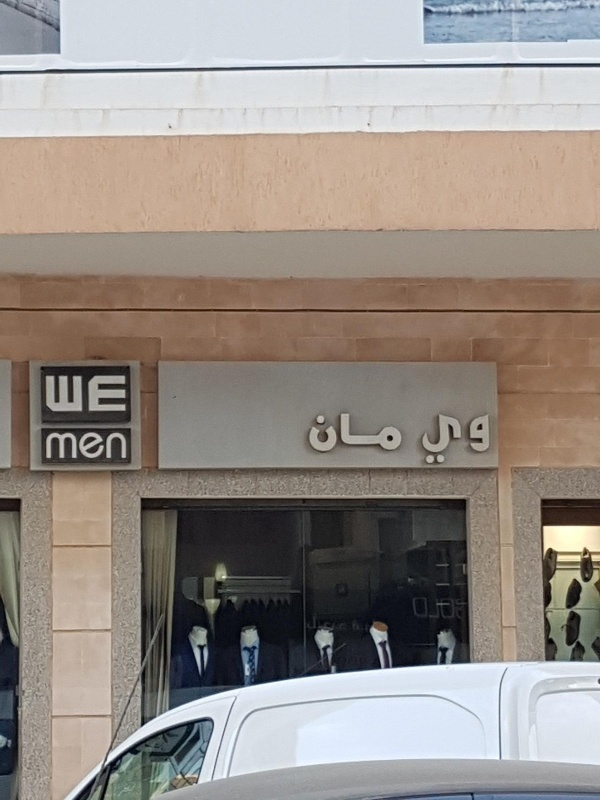text: (433, 413, 448, 466), (449, 413, 464, 466), (465, 413, 480, 466), (321, 413, 336, 453), (337, 413, 352, 453), (353, 413, 368, 453), (369, 413, 384, 453), (385, 413, 400, 453), (49, 375, 64, 412), (65, 375, 80, 412), (81, 375, 96, 412), (97, 375, 112, 412), (113, 375, 127, 412), (308, 413, 320, 453), (423, 413, 432, 466), (481, 413, 490, 466), (49, 431, 64, 459), (65, 431, 80, 459), (81, 431, 96, 459), (97, 431, 112, 459), (113, 431, 127, 459), (45, 375, 48, 412), (401, 413, 403, 453), (46, 431, 48, 459)
